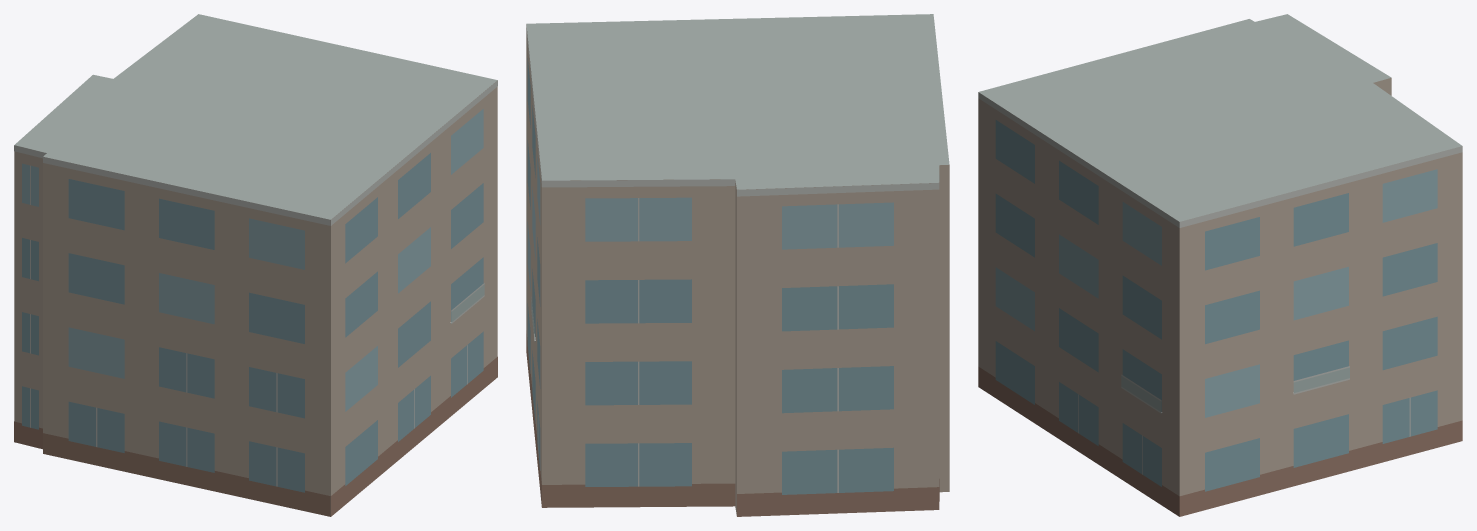
Rendered from survey-upis-32671182.glb.
3 views of the same model, side by side, from view 1: azimuth 30°, elevation 25°; view 2: azimuth 150°, elevation 25°; view 3: azimuth 270°, elevation 25° (orthographic). The views are drawn at different scales.
Visible parts, largest first — view 1: survey-upis-32671182.tmp; view 2: survey-upis-32671182.tmp; view 3: survey-upis-32671182.tmp.
Boxes of the visible parts, box(x1,y1,x2,y2) form: survey-upis-32671182.tmp: box(14, 14, 497, 516); survey-upis-32671182.tmp: box(526, 14, 949, 516); survey-upis-32671182.tmp: box(978, 14, 1462, 516).
Bounding box in the file's own units: 17.7 × 11.7 × 17.43.
